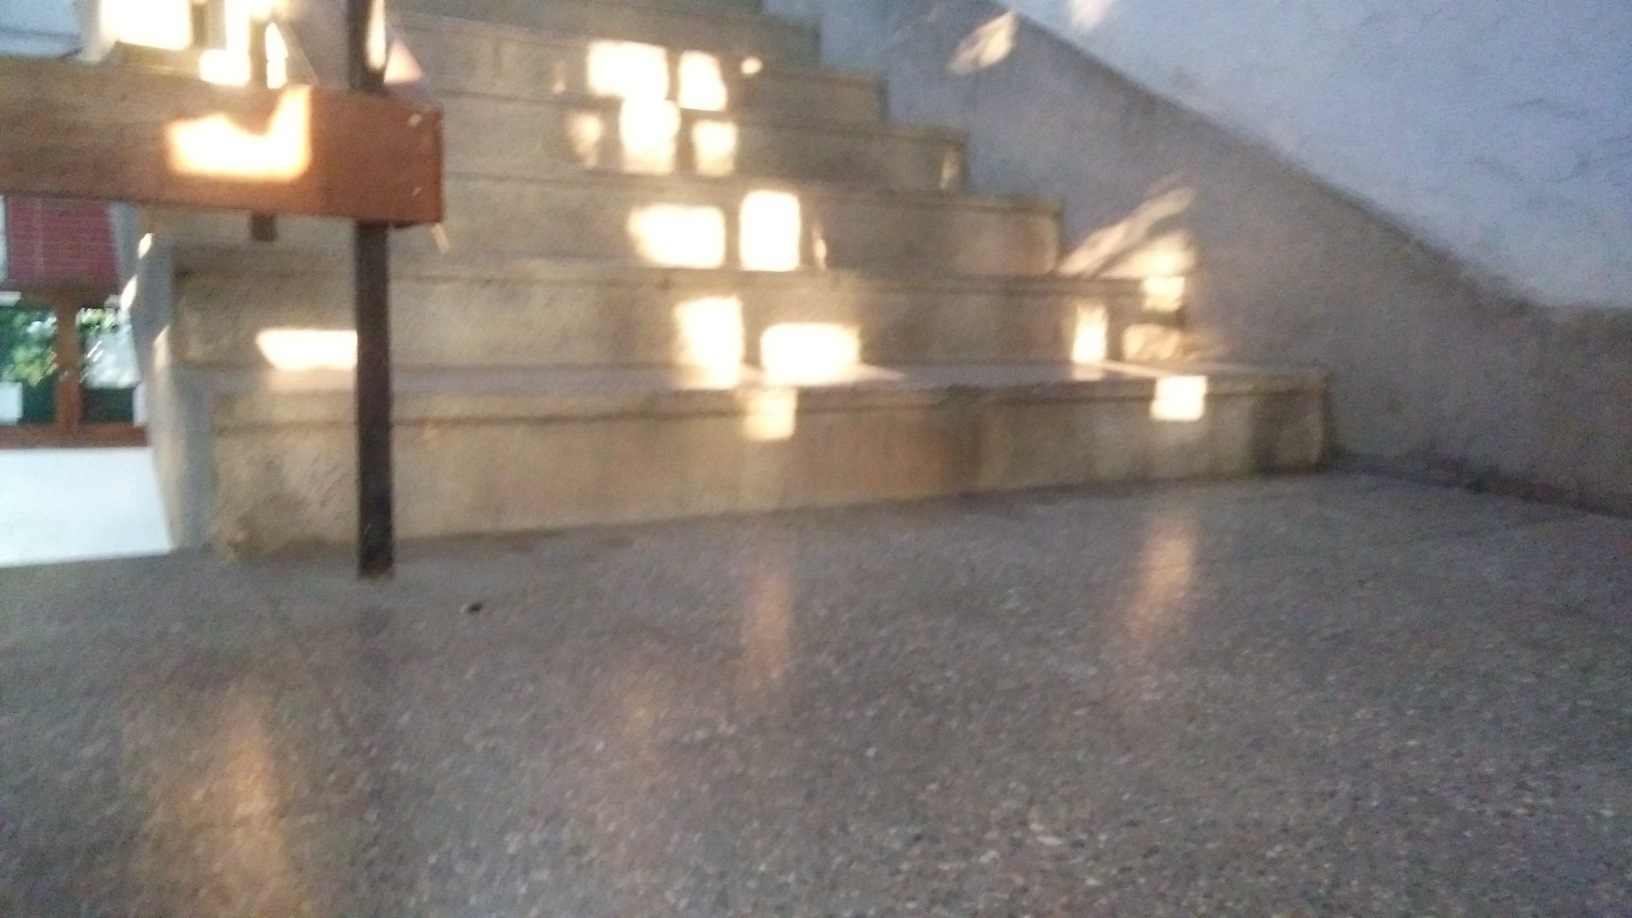stairs_up: (115, 6, 1347, 484)
